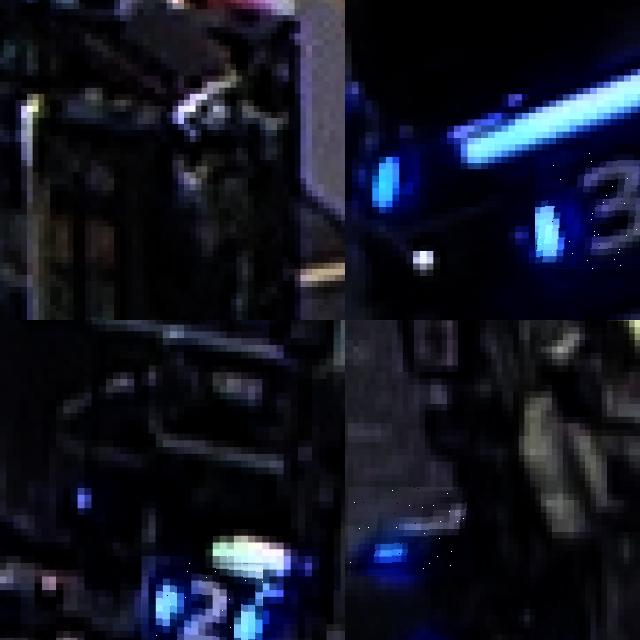B1: (348, 487, 474, 577)
B2: (141, 555, 262, 640)
B3: (535, 150, 640, 269)
